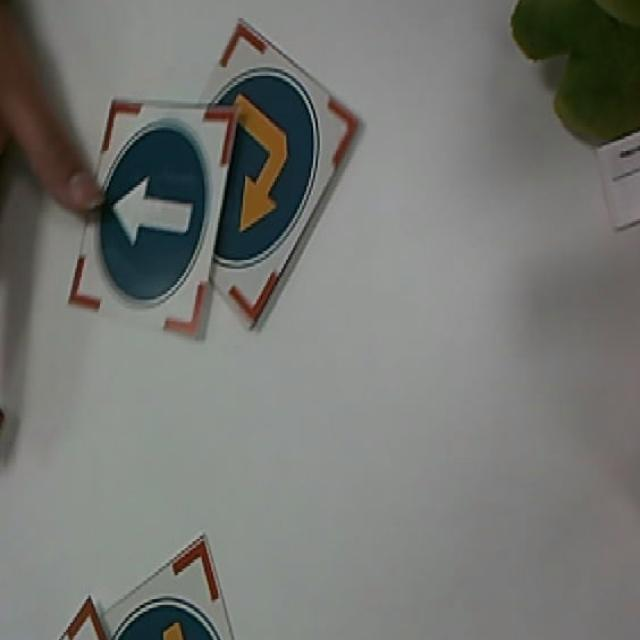straight: (83, 78, 223, 350)
turn: (216, 7, 377, 331), (76, 498, 311, 640)
